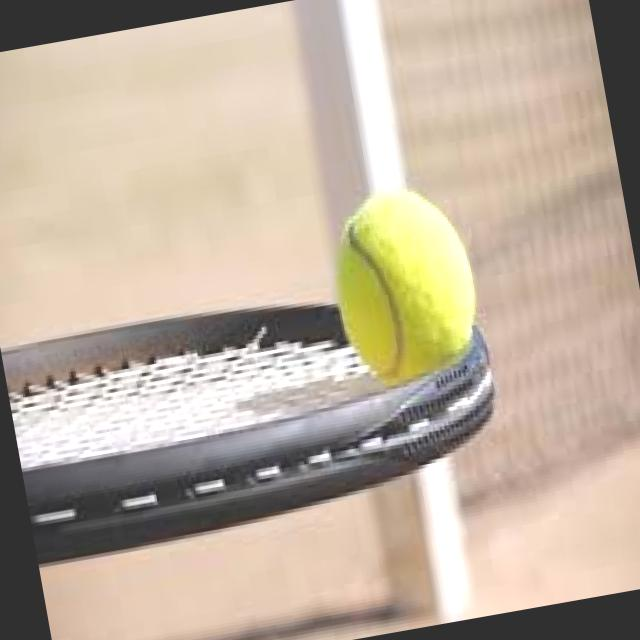tennis-ball: (320, 175, 490, 398)
